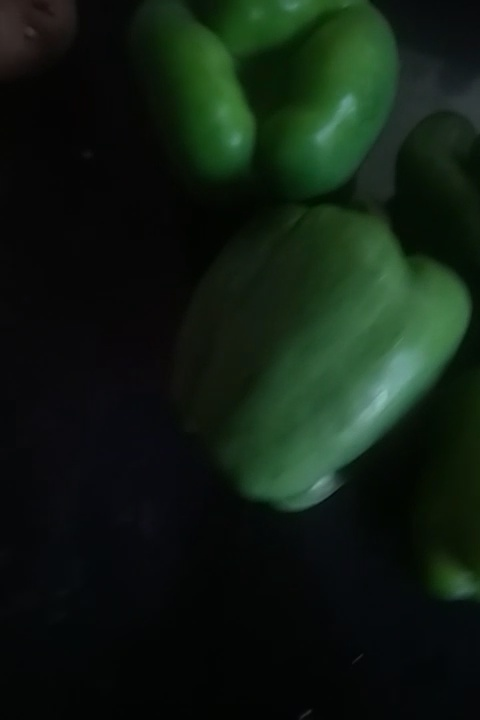capsicum: (201, 186, 446, 513), (126, 1, 403, 217), (412, 347, 480, 621), (401, 99, 480, 258)
potato: (1, 1, 85, 80)
